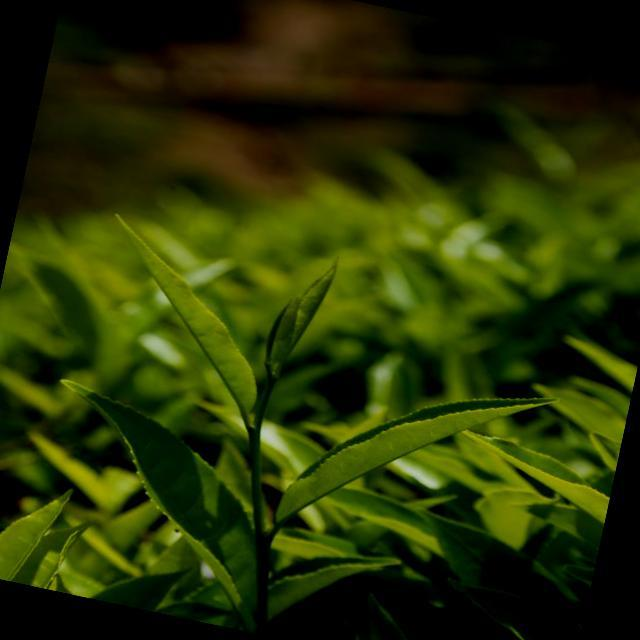Stem: (249, 428, 261, 442)
